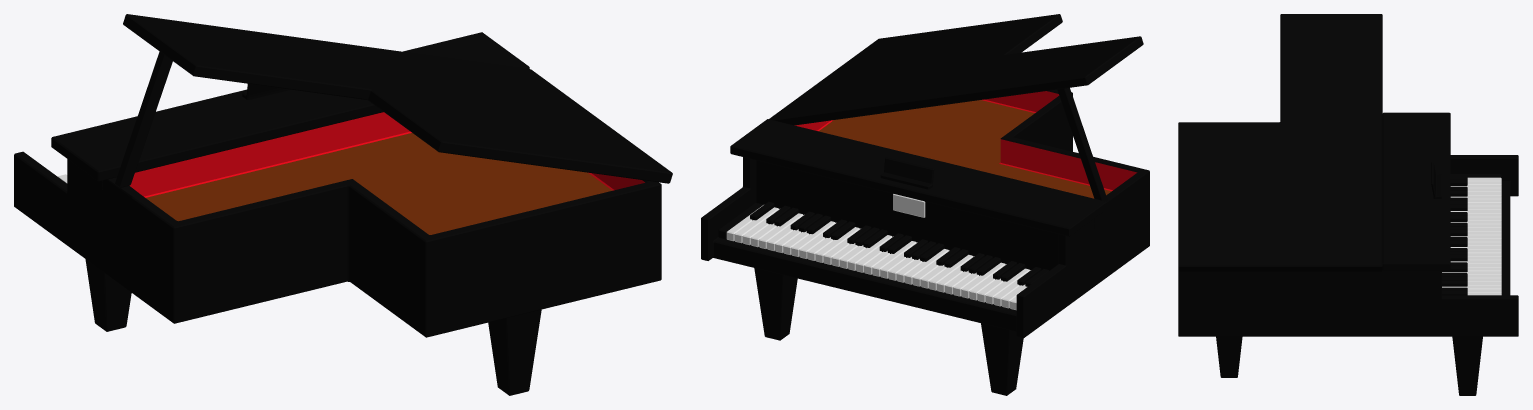
The model's file is piano.fbx.
The picture shows the model from 3 angles, left to right: view 1: azimuth 30°, elevation 25°; view 2: azimuth 150°, elevation 25°; view 3: azimuth 270°, elevation 25°; orthographic projection. The views are drawn at different scales.
Parts seen in each view (by area): view 1: Piano_Cube.013; view 2: Piano_Cube.013; view 3: Piano_Cube.013.
Part boxes in pixels (x1,y1,x2,y2): Piano_Cube.013: (14, 14, 672, 395); Piano_Cube.013: (701, 14, 1149, 395); Piano_Cube.013: (1178, 14, 1518, 395).
Size of the model in its own units: 421 by 340 by 400.
